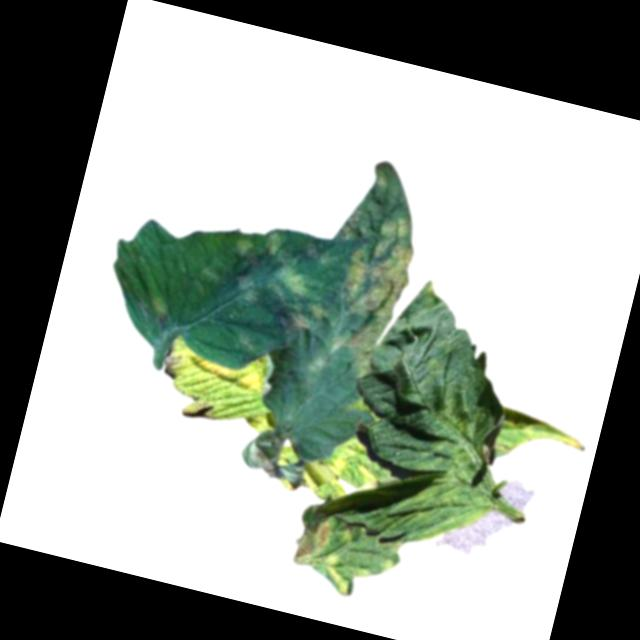Leaf_Mold: (309, 154, 437, 385), (209, 214, 343, 346), (266, 415, 390, 512), (289, 511, 407, 608), (489, 405, 591, 476), (179, 339, 270, 394)
